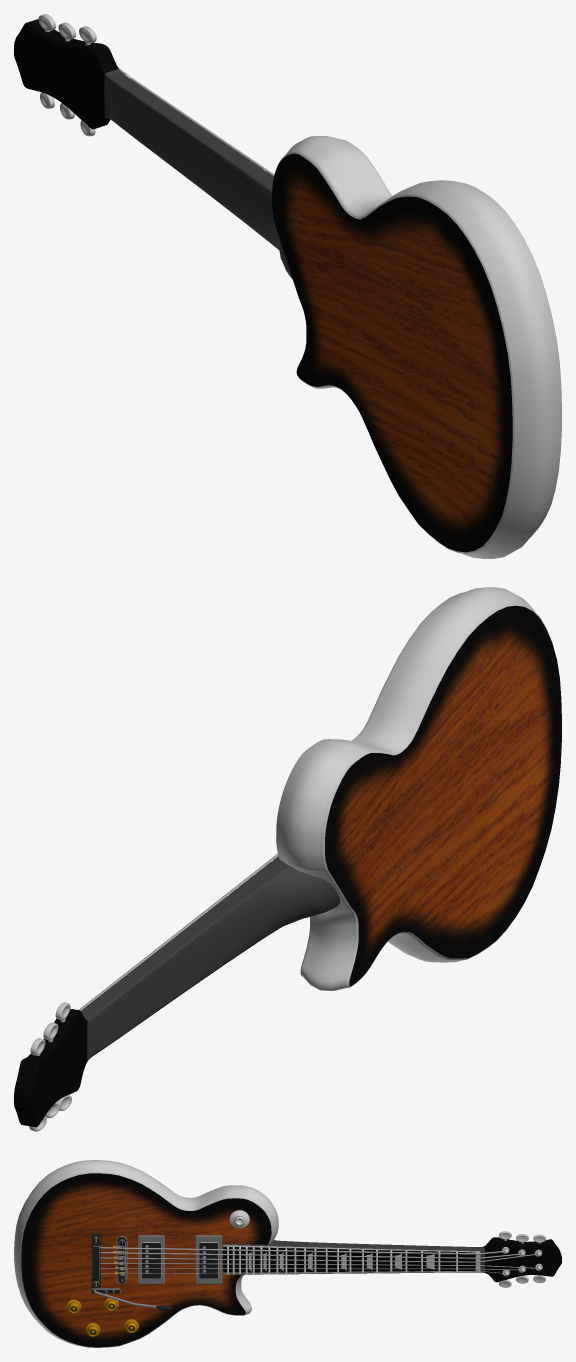
File: Guitar_3.fbx.fbx
3 views of the same model, one above another, from view 1: azimuth 30°, elevation 25°; view 2: azimuth 150°, elevation 25°; view 3: azimuth 270°, elevation 25° (orthographic). The views are drawn at different scales.
Parts seen in each view (by area): view 1: pCube64; view 2: pCube64; view 3: pCube64.
Part boxes in pixels (<box>): pCube64: <box>14,14,561,558</box>; pCube64: <box>14,587,561,1131</box>; pCube64: <box>14,1160,561,1347</box>.
Bounding box in the file's own units: 0.7508 × 3.46 × 9.3.
